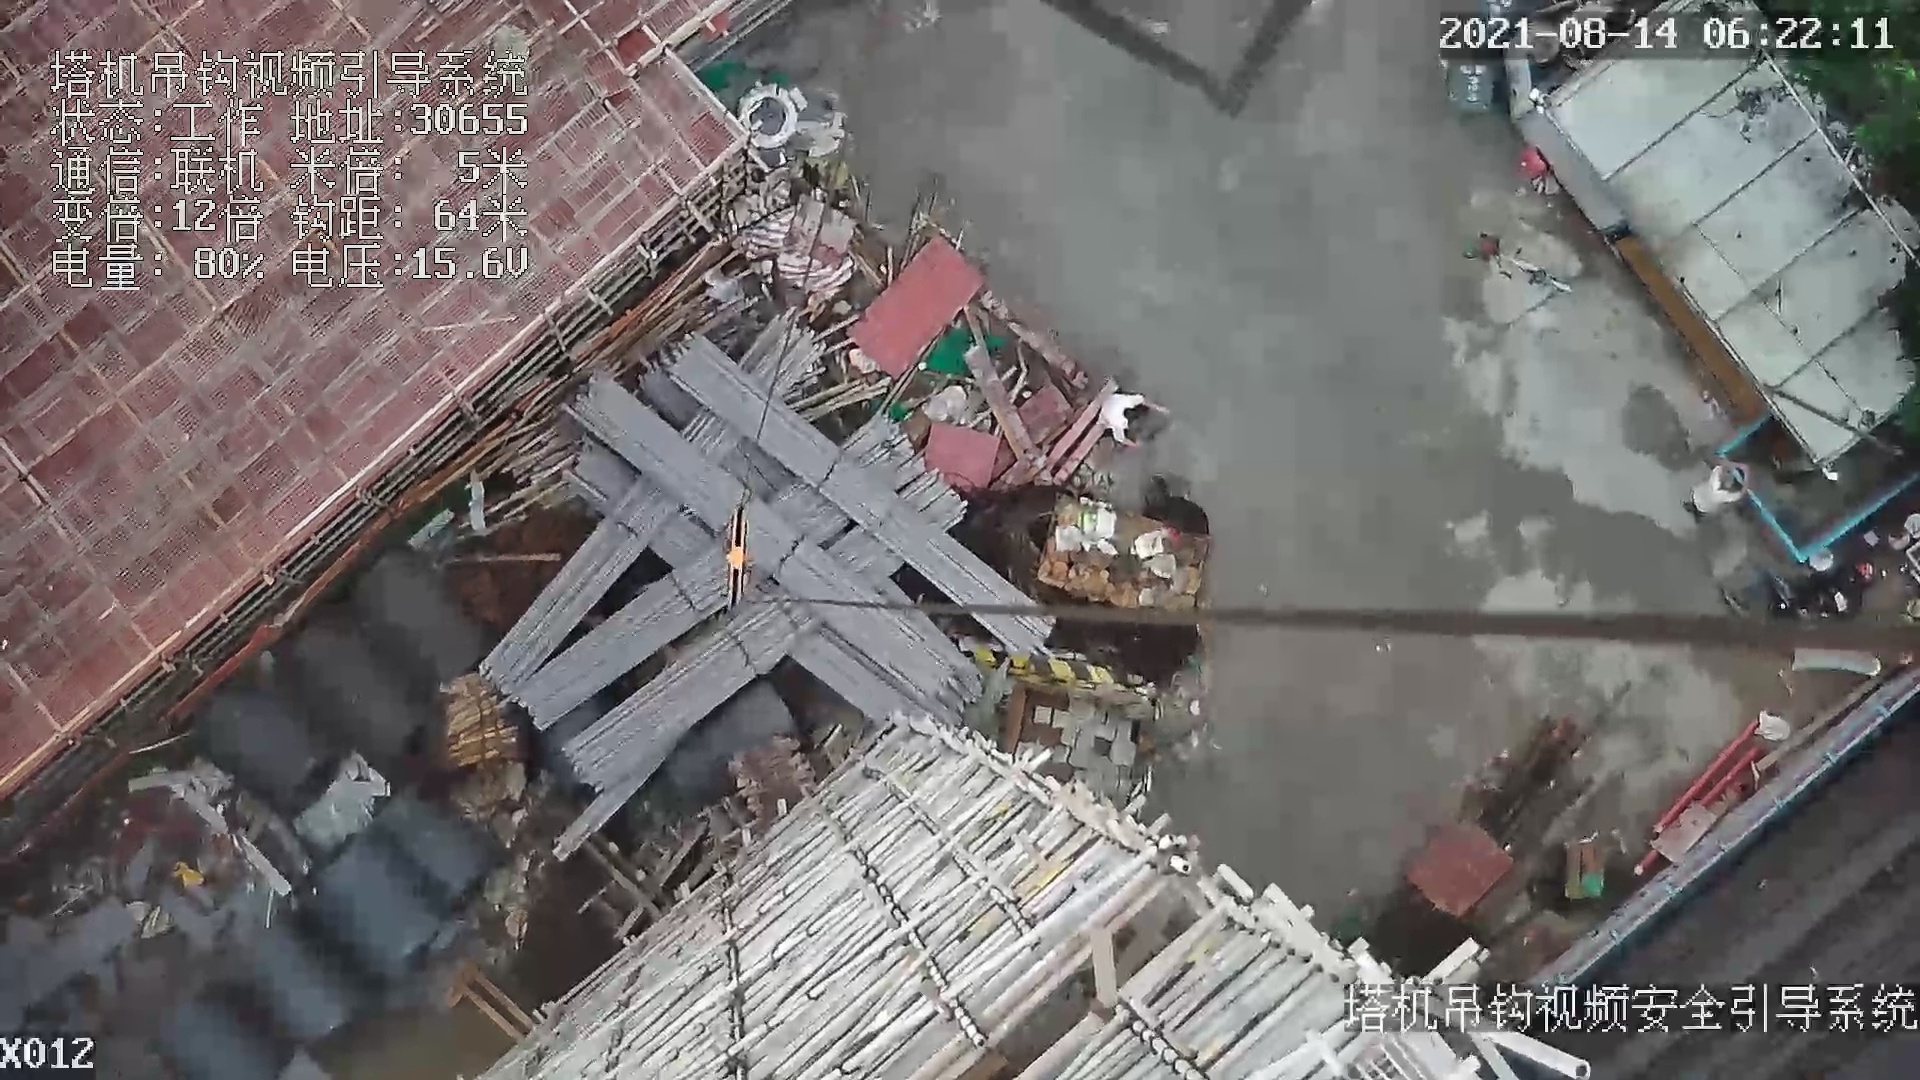hook: (722, 509, 753, 608)
person: (1095, 371, 1177, 451)
scaffold: (423, 354, 1055, 747)
